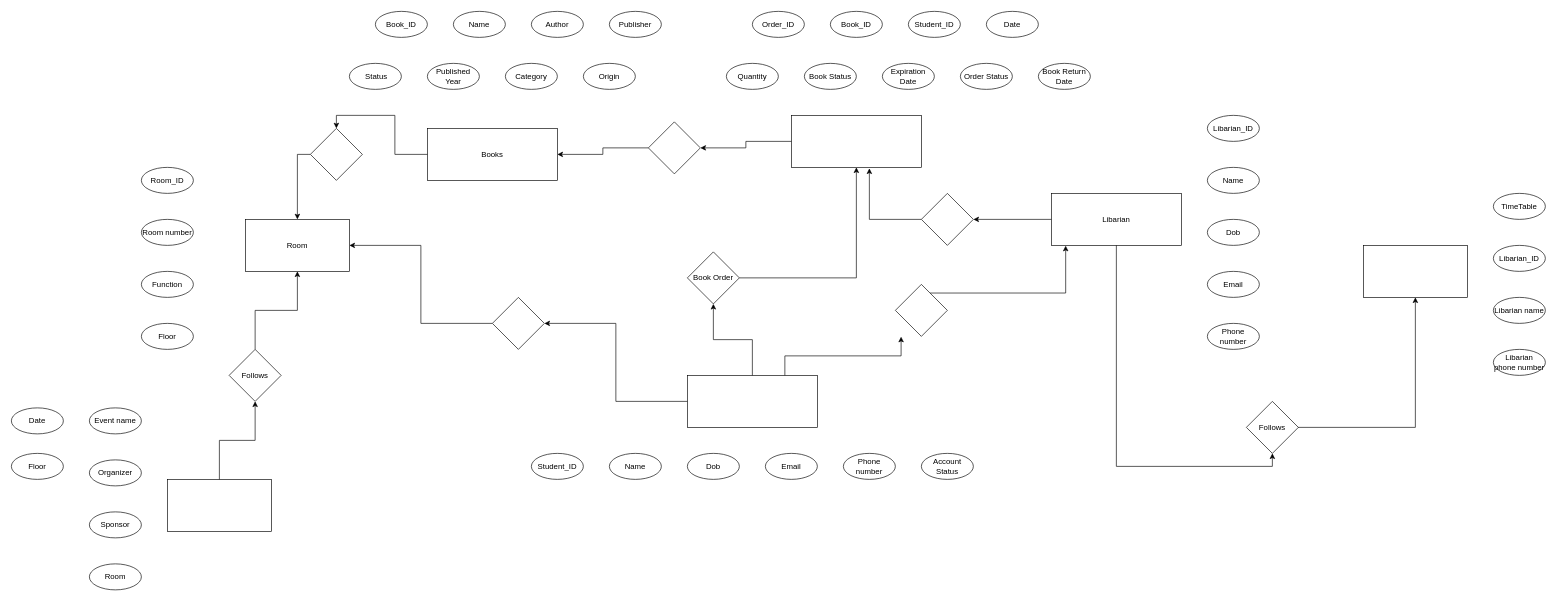
Image size: 1557x601. Some labels were removed from this diagram. The centre of each missing label's shape, as x and y in pixels:
Check in/Check out: point (518, 323)
Contains: point (674, 147)
Event: point (219, 505)
Execute Order: point (947, 219)
Order: point (856, 141)
Receive/Return Book: point (921, 310)
Schedule: point (1415, 271)
Stored in: point (336, 154)
Student: point (752, 401)
